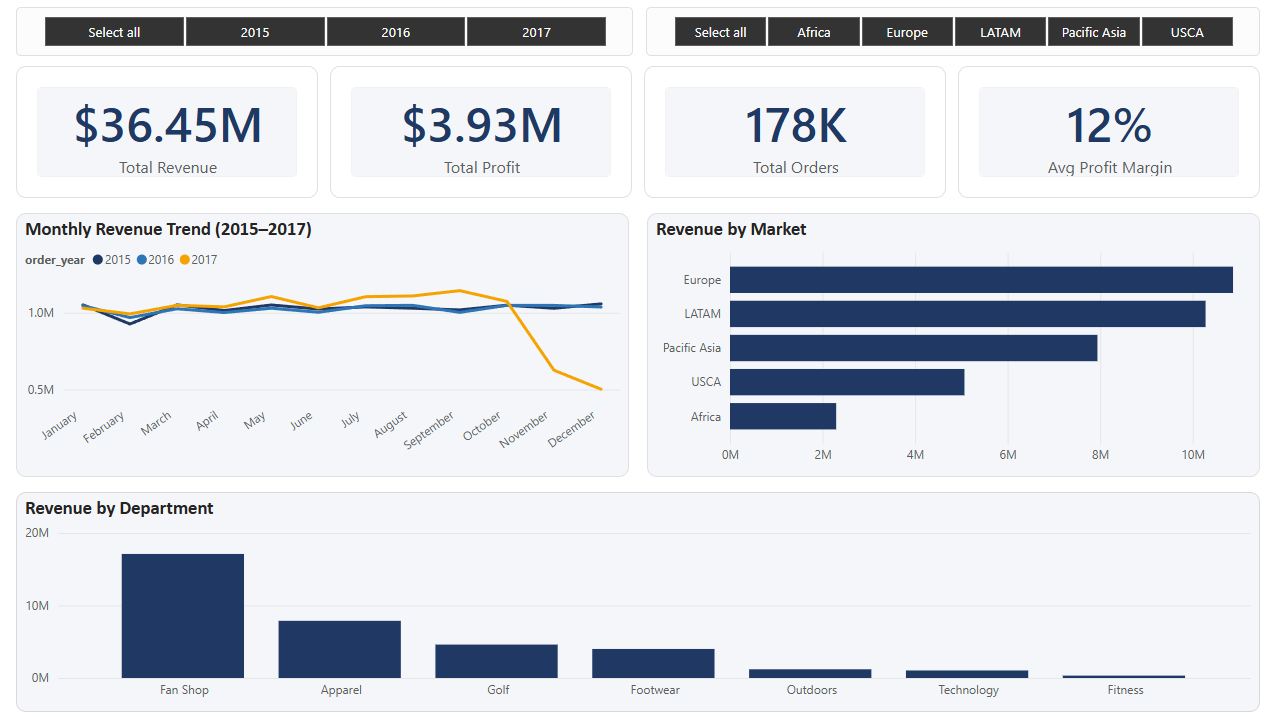

What the dashboard file says about the page in this screenshot:
{"tool":"powerbi","page":{"name":"Executive Summary","canvas":[1280,720],"ordinal":0},"visuals":[{"type":"slicer","fields":{"Values":["public orders.order_year"]},"box":[18.9,6.7,616.7,48.9],"z":0},{"type":"cardVisual","fields":{"Data":["Sum(public orders.sales)"]},"box":[18.9,65.6,302.4,132.2],"z":0,"group":"g1"},{"type":"group","id":"g1","title":"Group 1","box":[18.9,65.6,1244.4,646.7],"z":1000},{"type":"lineChart","title":"Monthly Revenue Trend (2015–2017)","fields":{"Category":["public orders.order_date.Variation.Date Hierarchy.Month"],"Y":["Sum(public orders.sales)"],"Series":["public orders.order_year"]},"box":[18.9,212.5,613.5,264.4],"z":1000,"group":"g1"},{"type":"slicer","fields":{"Values":["public orders.market"]},"box":[648.9,6.7,614.4,48.9],"z":2000},{"type":"cardVisual","fields":{"Data":["Sum(public orders.order_profit_per_order)"]},"box":[332.8,65.6,302.4,132.2],"z":2000,"group":"g1"},{"type":"clusteredBarChart","title":"Revenue by Market","fields":{"Category":["public orders.market"],"Y":["Sum(public orders.sales)"]},"box":[649.7,212.5,613.5,264.4],"z":3000,"group":"g1"},{"type":"cardVisual","fields":{"Data":["CountNonNull(public orders.order_id)"]},"box":[646.8,65.6,302.4,132.2],"z":4000,"group":"g1"},{"type":"cardVisual","fields":{"Data":["Avg(public orders.order_item_profit_ratio)"]},"box":[960.7,65.6,302.4,132.2],"z":5000,"group":"g1"},{"type":"clusteredColumnChart","title":"Revenue by Department","fields":{"Category":["public orders.department_name"],"Y":["Sum(public orders.sales)"]},"box":[18.9,491.5,1244.2,220.3],"z":6000,"group":"g1"}]}

Visuals, with their boxes in screenshot pixels (x1, y1, x2, y2), scaled from the page's 1280x720 canvas onto the 1274x717 screenshot:
slicer - public orders.order_year: [left=19, top=7, right=633, bottom=55]
cardVisual - Sum(public orders.sales): [left=19, top=65, right=320, bottom=197]
"Group 1" group: [left=19, top=65, right=1257, bottom=709]
"Monthly Revenue Trend (2015–2017)" lineChart: [left=19, top=212, right=629, bottom=475]
slicer - public orders.market: [left=646, top=7, right=1257, bottom=55]
cardVisual - Sum(public orders.order_profit_per_order): [left=331, top=65, right=632, bottom=197]
"Revenue by Market" clusteredBarChart: [left=647, top=212, right=1257, bottom=475]
cardVisual - CountNonNull(public orders.order_id): [left=644, top=65, right=945, bottom=197]
cardVisual - Avg(public orders.order_item_profit_ratio): [left=956, top=65, right=1257, bottom=197]
"Revenue by Department" clusteredColumnChart: [left=19, top=489, right=1257, bottom=709]
